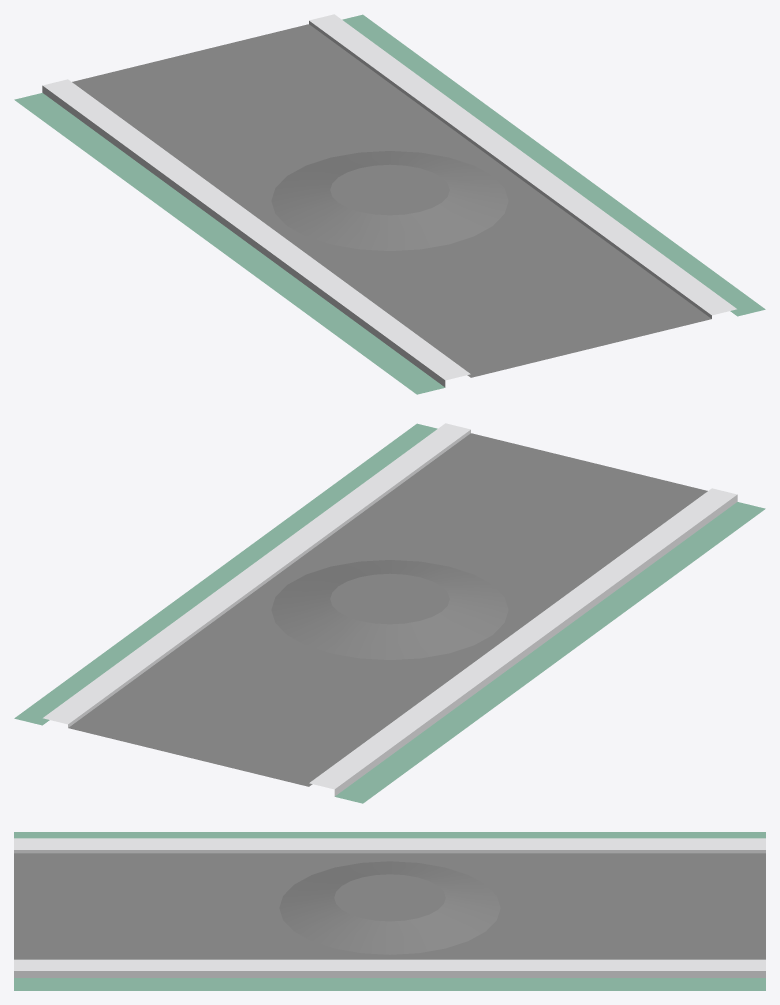
Rendered from roadStraightLongBumpRound.glb.
The picture shows the model from 3 angles, top to bottom: view 1: azimuth 30°, elevation 25°; view 2: azimuth 150°, elevation 25°; view 3: azimuth 270°, elevation 25°; orthographic projection. The views are drawn at different scales.
Visible parts, largest first — view 1: roadStraightLongBumpRound(Clone); view 2: roadStraightLongBumpRound(Clone); view 3: roadStraightLongBumpRound(Clone).
Boxes of the visible parts, x1,y1,x2,y2 form: roadStraightLongBumpRound(Clone): (14, 14, 765, 394); roadStraightLongBumpRound(Clone): (14, 423, 765, 803); roadStraightLongBumpRound(Clone): (14, 832, 765, 990).
Size of the model in its own units: 1 by 0.04 by 2.
